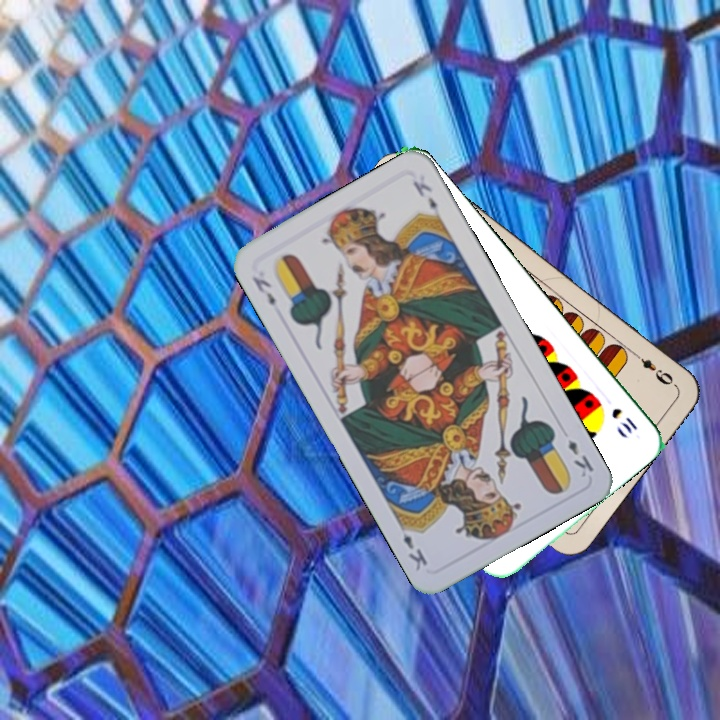E9: (629, 347, 679, 389)
EK: (563, 435, 596, 480), (248, 272, 278, 309)
S10: (607, 404, 640, 436)
